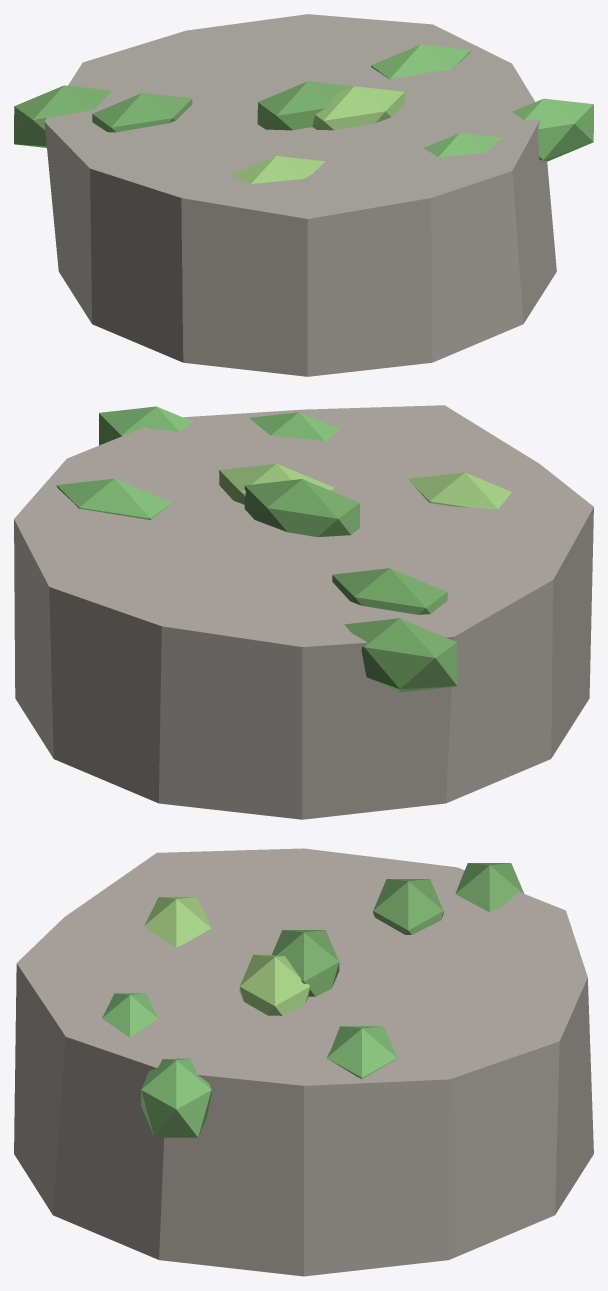
Rendered from 50-Vegetacion_musgo_roca.glb.
3 renders of one model, top to bottom at view 1: azimuth 30°, elevation 25°; view 2: azimuth 150°, elevation 25°; view 3: azimuth 270°, elevation 25°, orthographic. The views are drawn at different scales.
Visible parts, largest first — view 1: SM_MusgoRoca_M_MusgoRoca_Piedra, SM_MusgoRoca_M_MusgoRoca_VerdeOs, SM_MusgoRoca_M_MusgoRoca_Verde, SM_MusgoRoca_M_MusgoRoca_Claro; view 2: SM_MusgoRoca_M_MusgoRoca_Piedra, SM_MusgoRoca_M_MusgoRoca_VerdeOs, SM_MusgoRoca_M_MusgoRoca_Verde, SM_MusgoRoca_M_MusgoRoca_Claro; view 3: SM_MusgoRoca_M_MusgoRoca_Piedra, SM_MusgoRoca_M_MusgoRoca_Verde, SM_MusgoRoca_M_MusgoRoca_VerdeOs, SM_MusgoRoca_M_MusgoRoca_Claro.
Part boxes in pixels (x1,y1,x2,y2): SM_MusgoRoca_M_MusgoRoca_Piedra: (44, 14, 556, 376); SM_MusgoRoca_M_MusgoRoca_VerdeOs: (14, 81, 353, 147); SM_MusgoRoca_M_MusgoRoca_Verde: (371, 44, 593, 161); SM_MusgoRoca_M_MusgoRoca_Claro: (230, 86, 404, 183); SM_MusgoRoca_M_MusgoRoca_Piedra: (14, 405, 593, 819); SM_MusgoRoca_M_MusgoRoca_VerdeOs: (244, 479, 457, 692); SM_MusgoRoca_M_MusgoRoca_Verde: (56, 406, 339, 519); SM_MusgoRoca_M_MusgoRoca_Claro: (219, 463, 511, 509); SM_MusgoRoca_M_MusgoRoca_Piedra: (14, 848, 593, 1276); SM_MusgoRoca_M_MusgoRoca_Verde: (102, 993, 397, 1137); SM_MusgoRoca_M_MusgoRoca_VerdeOs: (272, 863, 524, 996); SM_MusgoRoca_M_MusgoRoca_Claro: (144, 897, 310, 1015).
Bounding box in the file's own units: 1.26 × 0.5083 × 1.21.
